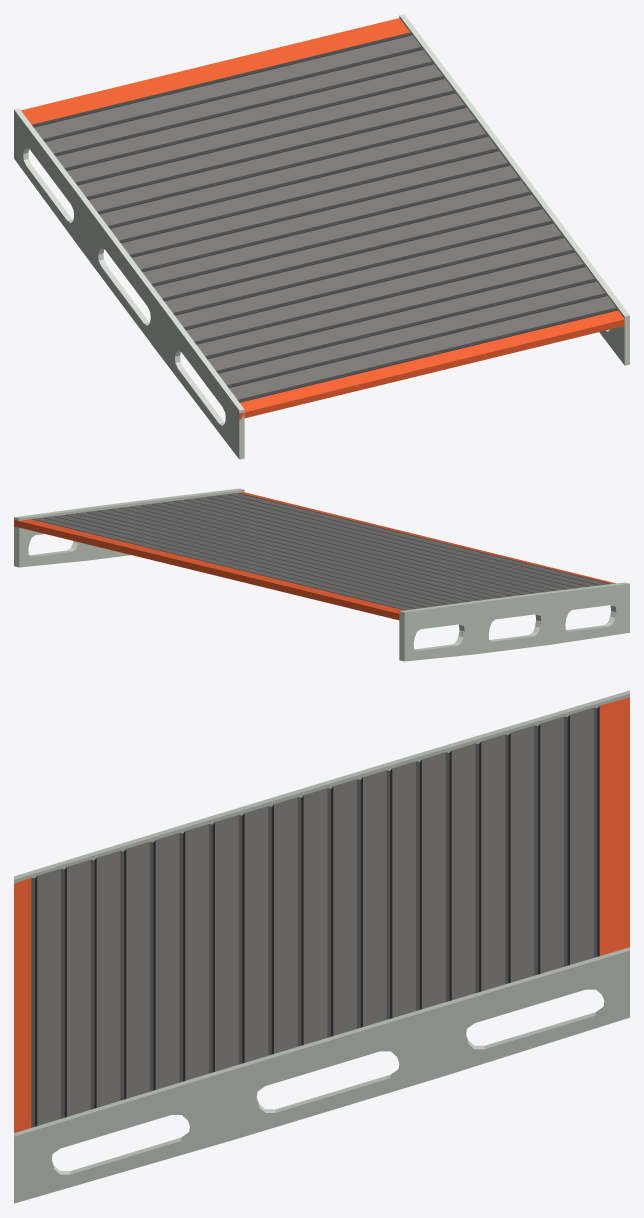
Rendered from Dock_Ramp_01.glb.
The picture shows the model from 3 angles, top to bottom: view 1: azimuth 30°, elevation 25°; view 2: azimuth 150°, elevation 25°; view 3: azimuth 270°, elevation 25°; orthographic projection. The views are drawn at different scales.
Parts seen in each view (by area): view 1: Dock_Ramp_01; view 2: Dock_Ramp_01; view 3: Dock_Ramp_01.
Part boxes in pixels (x1=…): Dock_Ramp_01: x1=14, y1=14, x2=629, y2=459; Dock_Ramp_01: x1=14, y1=488, x2=629, y2=661; Dock_Ramp_01: x1=14, y1=690, x2=629, y2=1203.
Size of what is drawn, in the model's own units: 3 by 1.36 by 3.
Materials: 1 (1 with a texture image).
